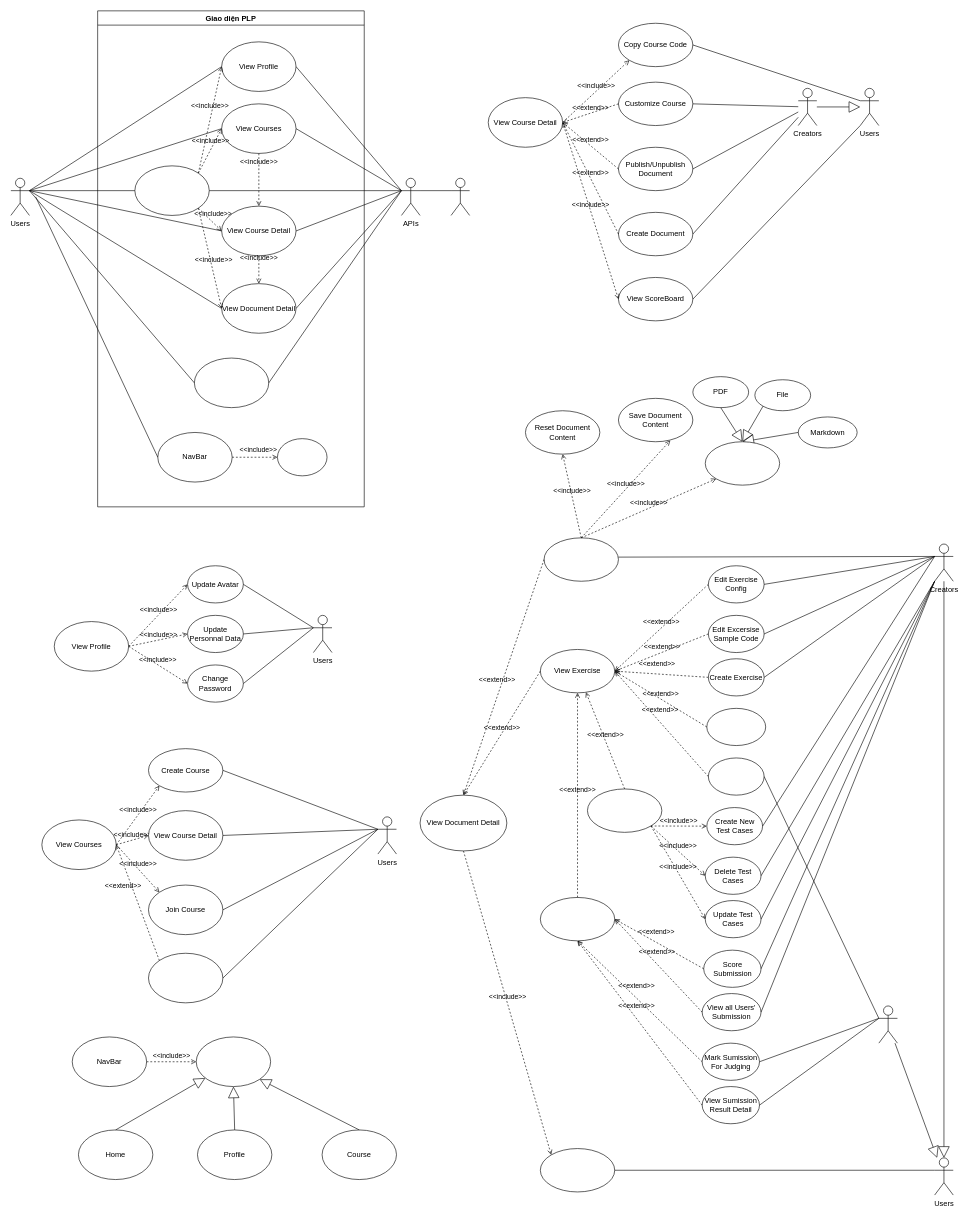
Some shapes in this 969 by 1219 pixel diagram are drawn without their labels. The shapes that lost their labels are listed below. From the top down, each one's centre as x and y in pixels, then its label:
At (x=171, y=190): "Login".
At (x=460, y=196): "Server".
At (x=231, y=382): "Register".
At (x=302, y=457): "Logout".
At (x=742, y=463): "Set Up Document".
At (x=580, y=559): "Compose Document Content".
At (x=736, y=727): "Get Excersise Sample Code".
At (x=736, y=776): "Submit Excersie".
At (x=624, y=810): "View Test Cases".
At (x=577, y=919): "View Submission".
At (x=185, y=978): "Copy Course Link".
At (x=887, y=1024): "Non-Creators".
At (x=233, y=1061): "Navigate to PLP Pages".
At (x=577, y=1170): "View Document Content".
